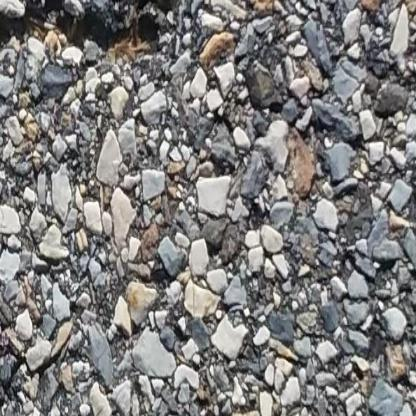Cracks: (0, 0, 191, 58), (0, 372, 14, 416)
